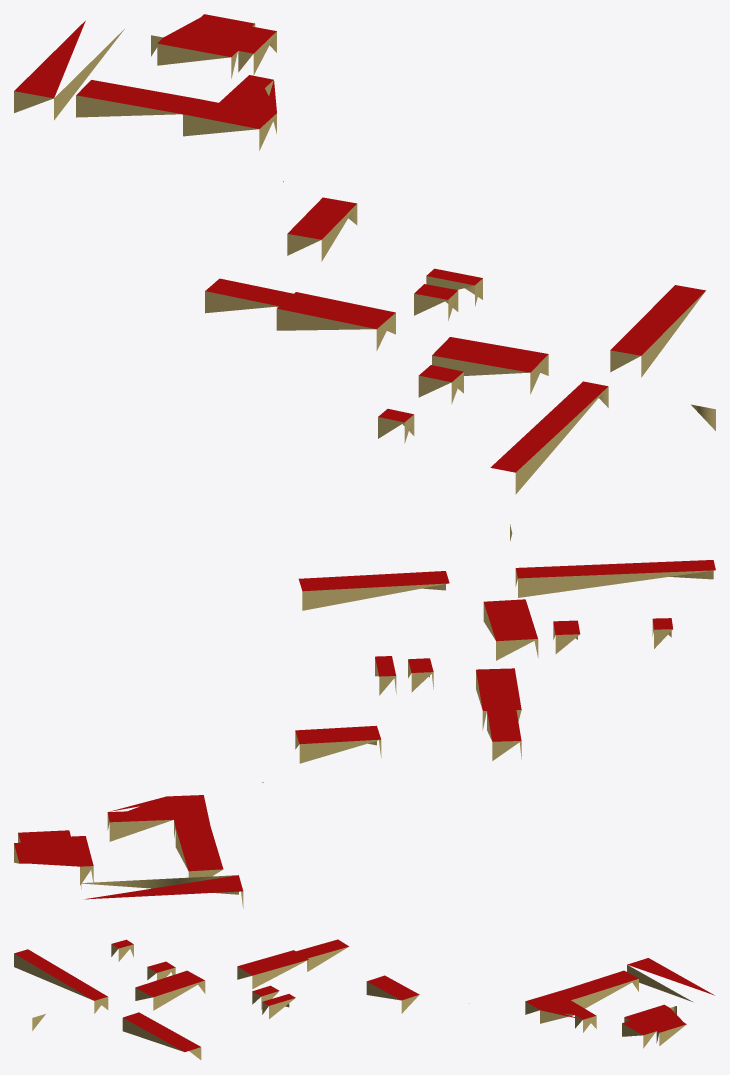
The picture shows the model from 3 angles, top to bottom: view 1: azimuth 30°, elevation 25°; view 2: azimuth 150°, elevation 25°; view 3: azimuth 270°, elevation 25°; orthographic projection. The views are drawn at different scales.
Size of the model in its own units: 133 by 7.5 by 350.
